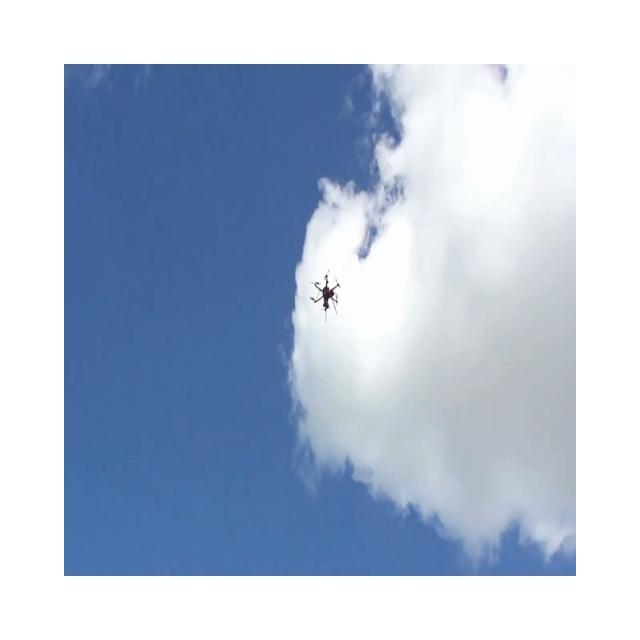drone: (309, 268, 340, 322)
